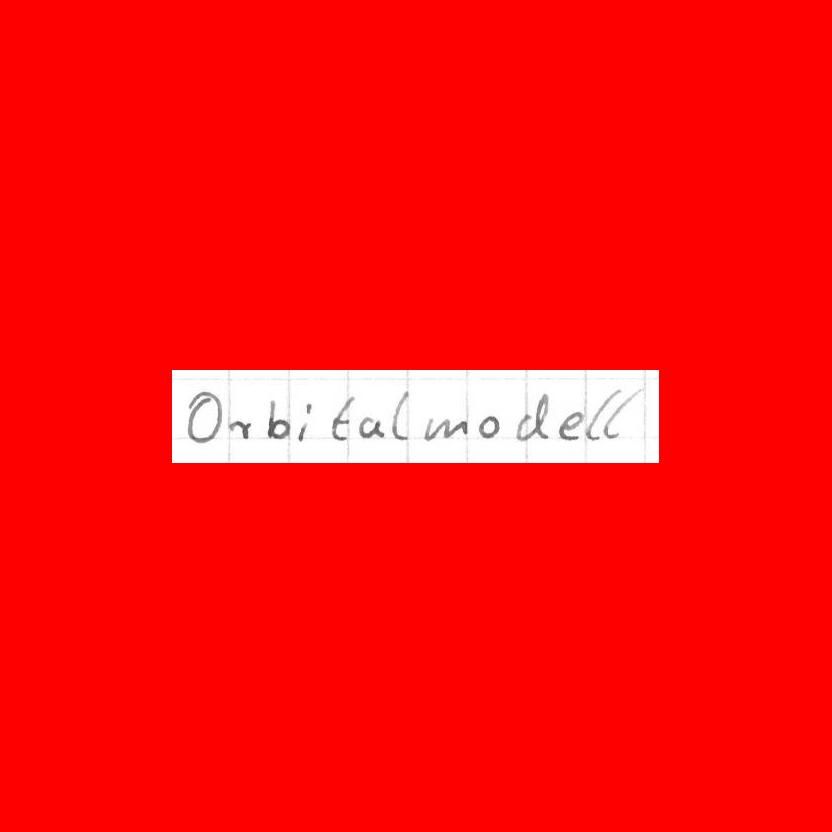Char: (184, 389, 223, 444), (515, 391, 554, 443), (604, 388, 641, 439), (584, 386, 613, 444), (264, 396, 293, 442), (329, 393, 355, 443), (422, 416, 470, 443), (390, 389, 413, 440), (557, 407, 583, 443), (357, 415, 386, 441), (297, 399, 313, 443), (476, 412, 501, 440), (226, 416, 253, 440)
